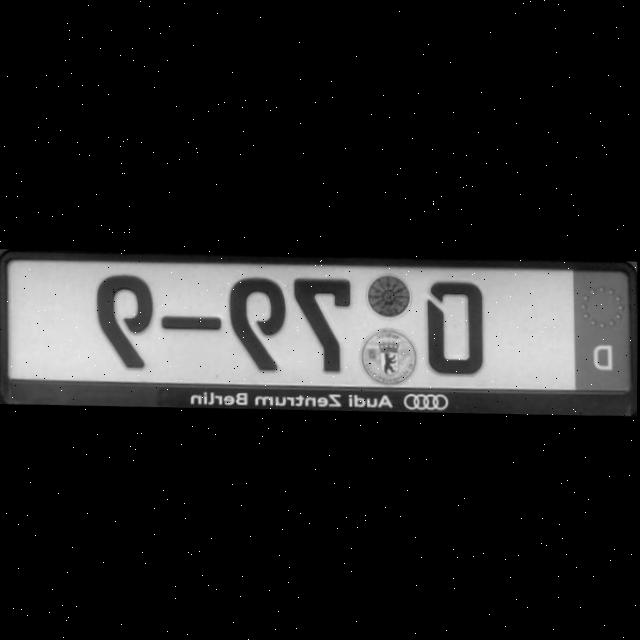license-plates: (5, 260, 632, 394)
